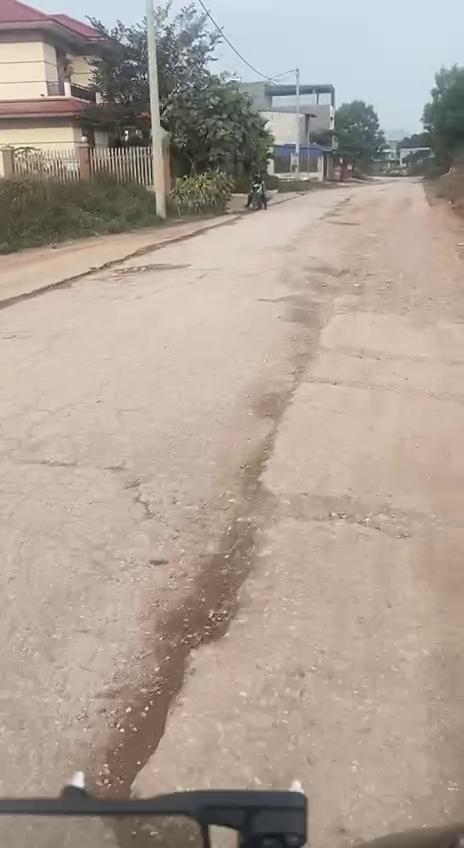pothole: (77, 478, 284, 826), (276, 487, 436, 534)
